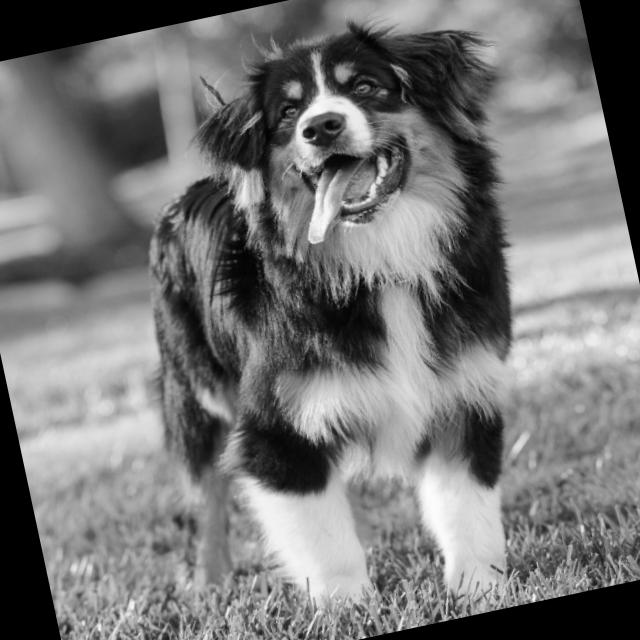dogs: (62, 2, 594, 640)
